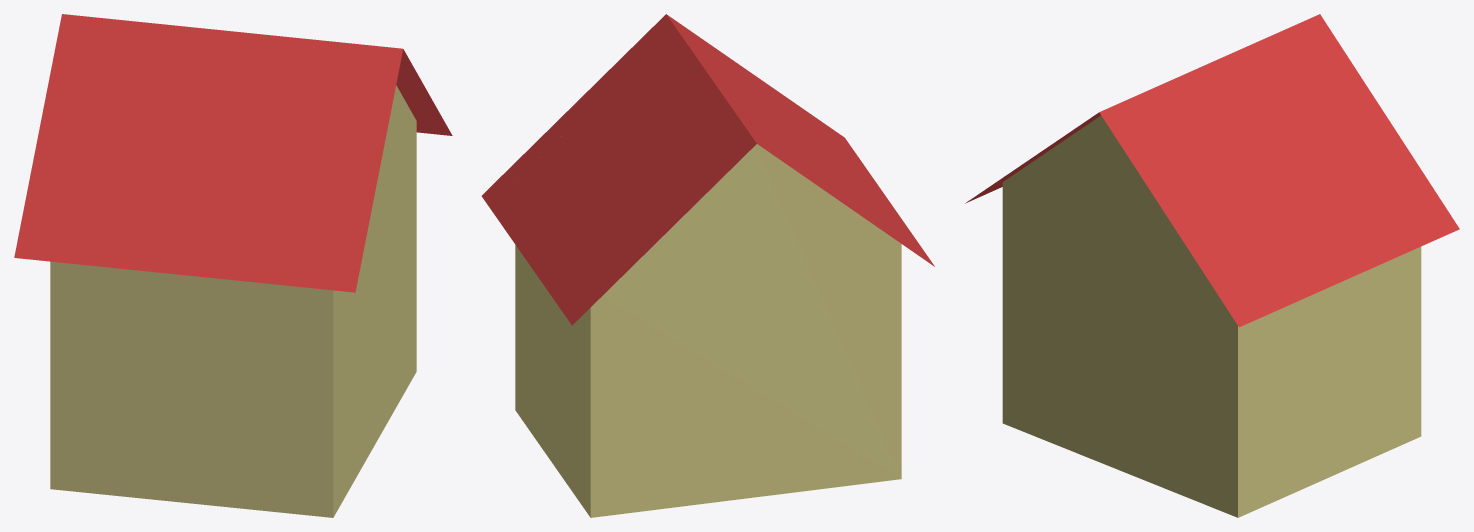
3 renders of one model, left to right at view 1: azimuth 30°, elevation 25°; view 2: azimuth 150°, elevation 25°; view 3: azimuth 270°, elevation 25°, orthographic. The views are drawn at different scales.
Bounding box in the file's own units: 17.98 × 18.06 × 14.7.
